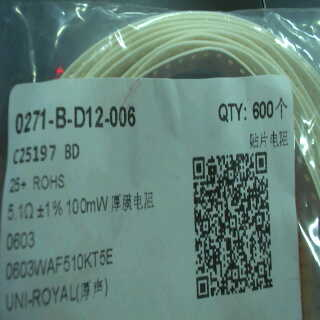5.1R: (5, 199, 35, 223)
